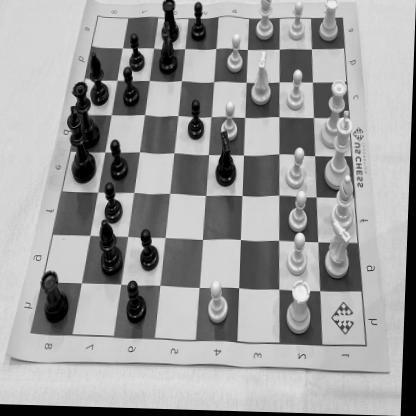black-bishop: (100, 220, 126, 279), (90, 52, 110, 108)
black-king: (66, 107, 99, 185)
black-knight: (215, 131, 241, 190), (159, 21, 179, 77)
black-pawn: (140, 230, 163, 274), (128, 282, 151, 326), (110, 140, 132, 184), (104, 186, 128, 226), (122, 69, 142, 109), (128, 34, 146, 76), (188, 100, 206, 142), (190, 3, 208, 43)
black-queen: (70, 82, 98, 144)
black-rook: (41, 272, 72, 328), (160, 0, 180, 45)
white-bishop: (332, 172, 359, 232), (254, 0, 276, 41)
white-king: (326, 110, 357, 191)
white-knight: (326, 219, 356, 279), (249, 50, 275, 108)
white-pawn: (288, 231, 310, 277), (210, 279, 232, 325), (286, 148, 309, 190), (290, 190, 311, 234), (288, 1, 306, 42), (288, 70, 306, 111), (222, 101, 240, 140), (228, 35, 244, 75)
white-queen: (320, 77, 350, 149)
white-rook: (288, 278, 316, 335), (318, 0, 342, 43)
